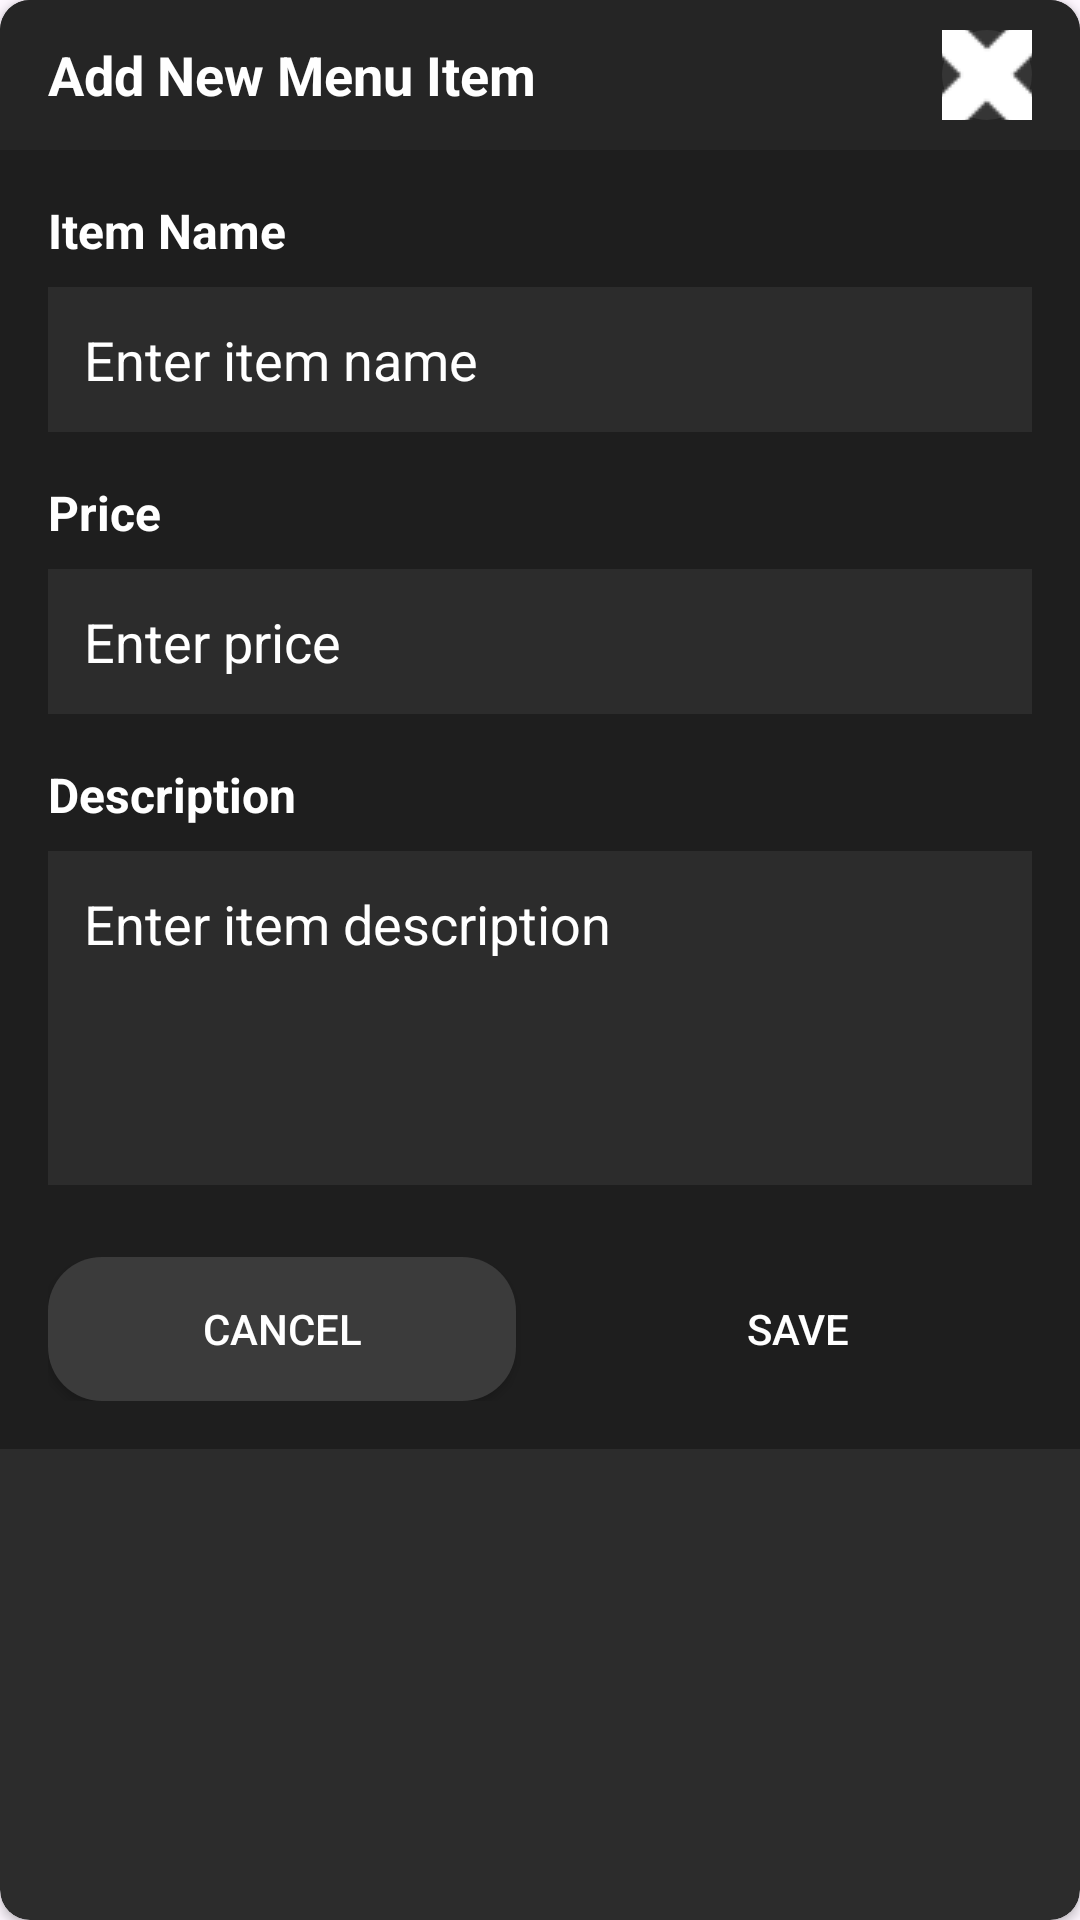

Where to tap for icons on this 1080×1920 app screen, as [x,y]:
Close: [987,75]
